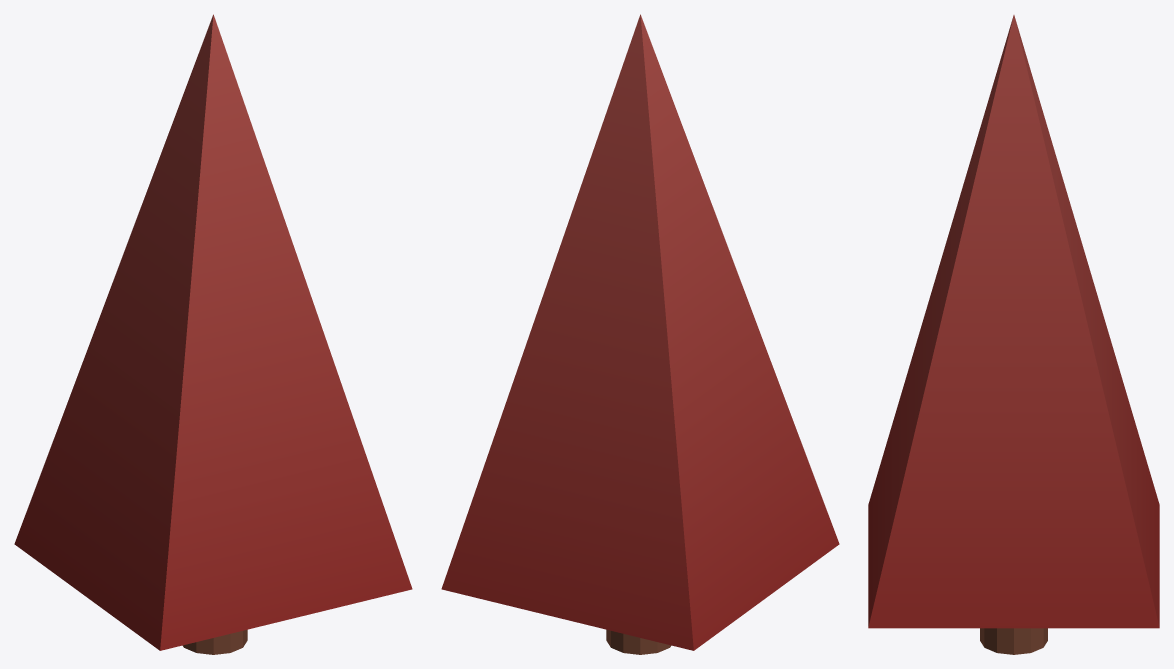
File: Tree_36_gradient_red_vc.fbx
3 views of the same model, side by side, from view 1: azimuth 30°, elevation 25°; view 2: azimuth 150°, elevation 25°; view 3: azimuth 270°, elevation 25° (orthographic).
Parts seen in each view (by area): view 1: Tree_36_gradient_red_vc; view 2: Tree_36_gradient_red_vc; view 3: Tree_36_gradient_red_vc.
Boxes of the visible parts, left/top/right/bottom form: Tree_36_gradient_red_vc: left=14, top=14, right=412, bottom=654; Tree_36_gradient_red_vc: left=441, top=14, right=839, bottom=654; Tree_36_gradient_red_vc: left=868, top=15, right=1159, bottom=654.
Size of the model in its own units: 69.07 by 164 by 69.07.
